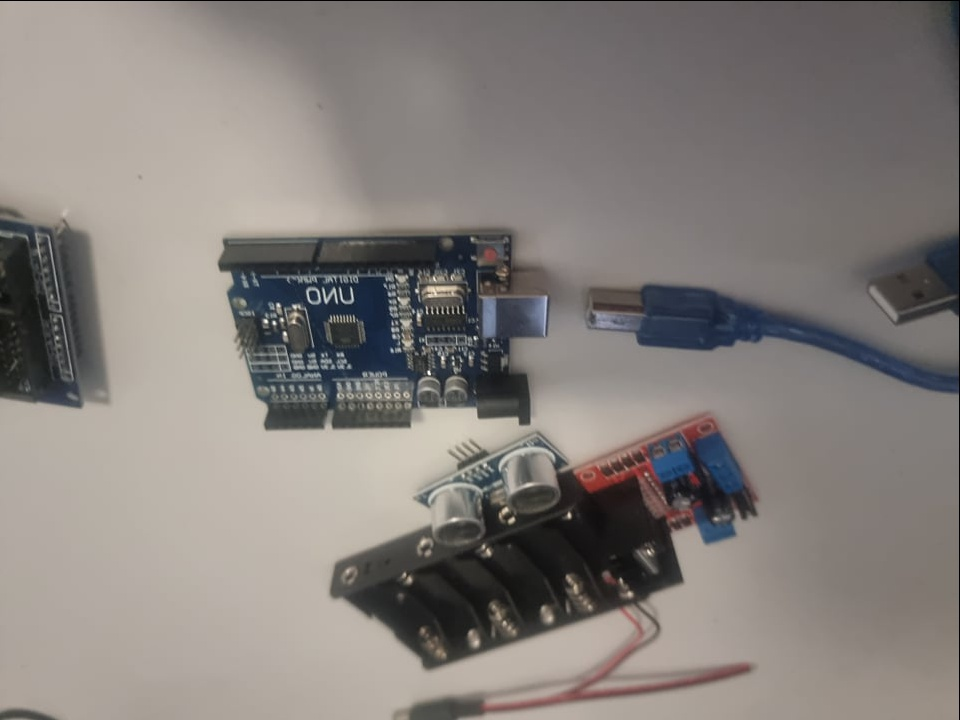BATTERY BOX: (331, 524, 610, 672)
MOTOR: (576, 411, 760, 597)
SENSOR: (422, 434, 565, 543)
UNO R3: (216, 222, 553, 440)
